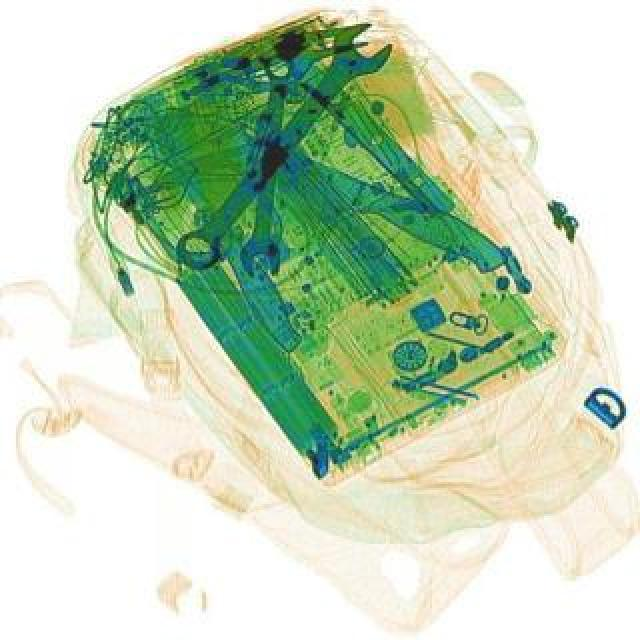knife: (126, 102, 514, 326)
scissors: (156, 14, 398, 286), (234, 60, 298, 282)
